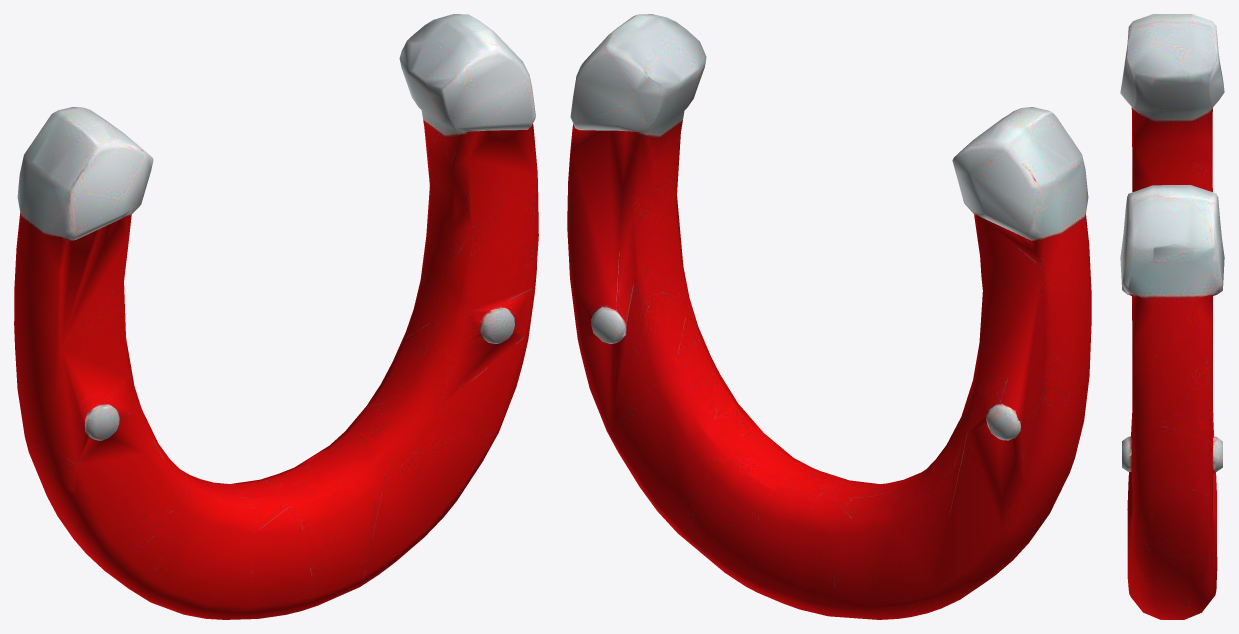
The model's file is magnet.glb.
The picture shows the model from 3 angles, left to right: view 1: azimuth 30°, elevation 25°; view 2: azimuth 150°, elevation 25°; view 3: azimuth 270°, elevation 25°; orthographic projection. The views are drawn at different scales.
Size of the model in its own units: 1.86 by 1.91 by 0.3663.
1 material, 1 textured.
